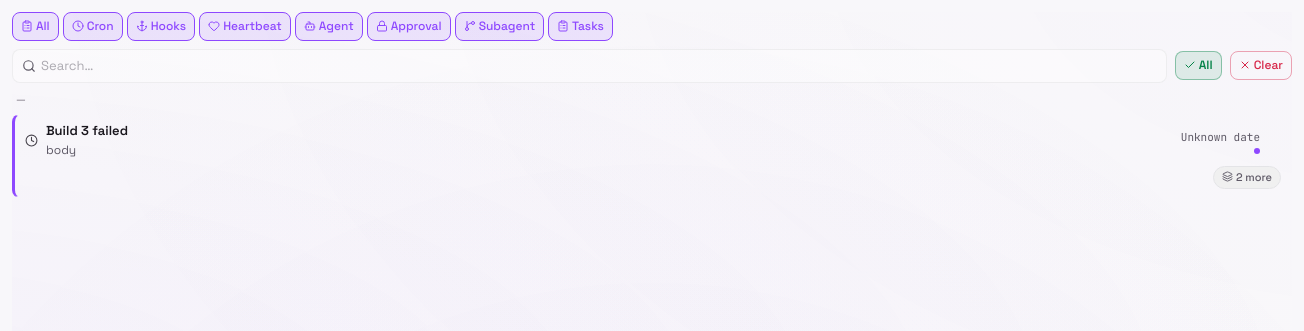
Test case: NotificationFeed Phase 4: group_key stacking › expands and collapses the stack on pill click
Click the button "2 more" at (1247, 177), box [1213,166,1281,189]
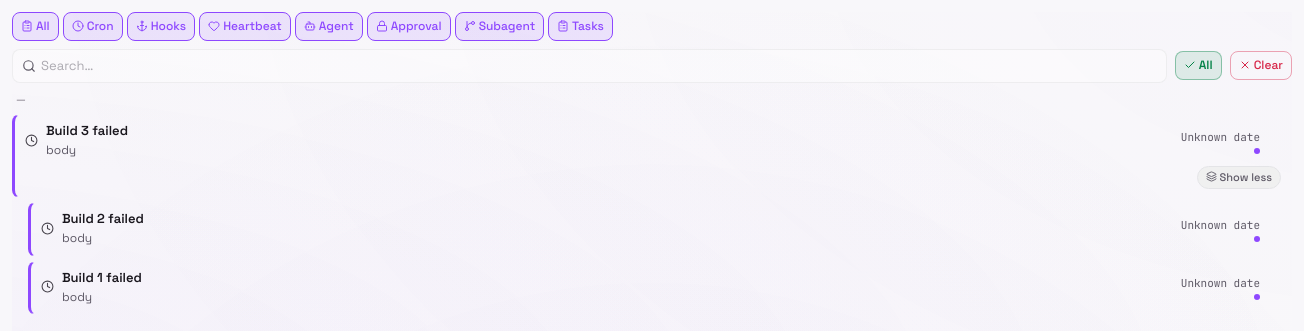
Now the text "Build 2 failed" is shown, box [62,210,144,227]
Now the text "Build 1 failed" is shown, box [62,268,142,286]
Click the button "Show less" at (1239, 177), box [1197,166,1281,189]
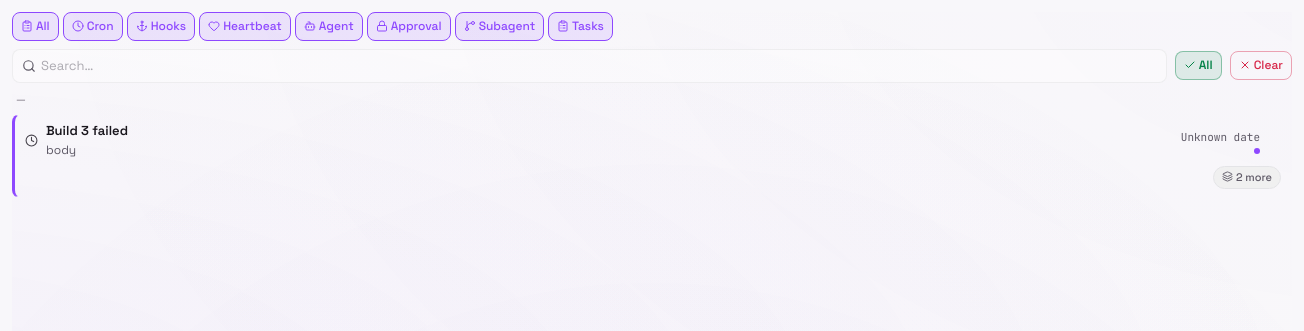
Now the button "Build 2 failed" is gone
